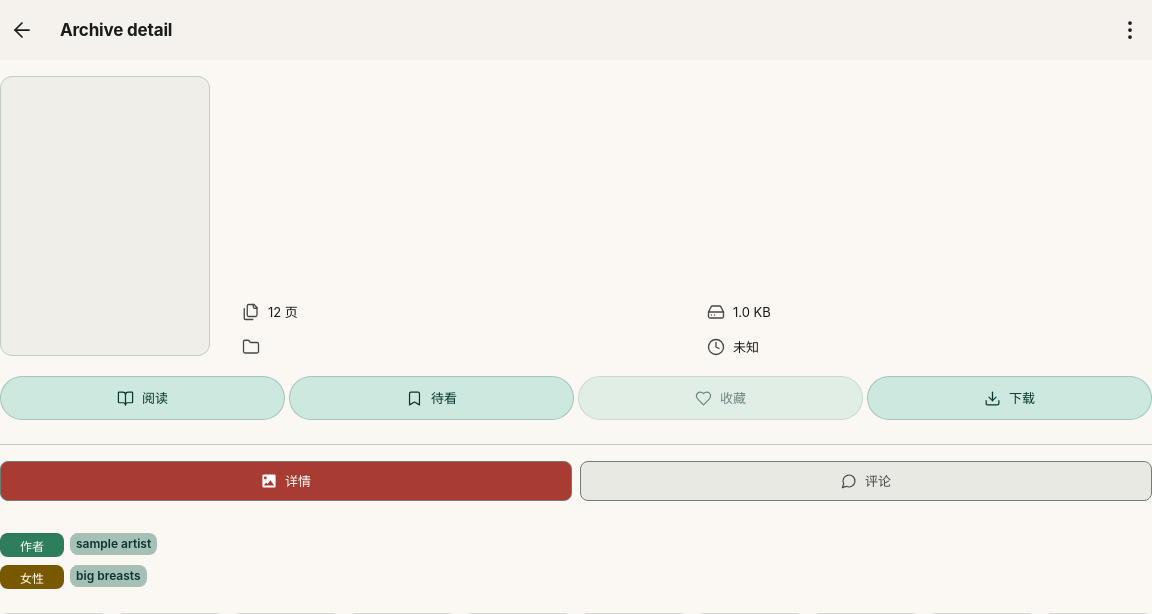
archive detail route › offers incognito by long-pressing 阅读 rather than a button of its own
Expected: the link "无痕阅读" is not shown
Press the mouse on the link "阅读" at [142, 398], box top-left (0, 376), bottom-right (285, 420)
Wait 600 ms
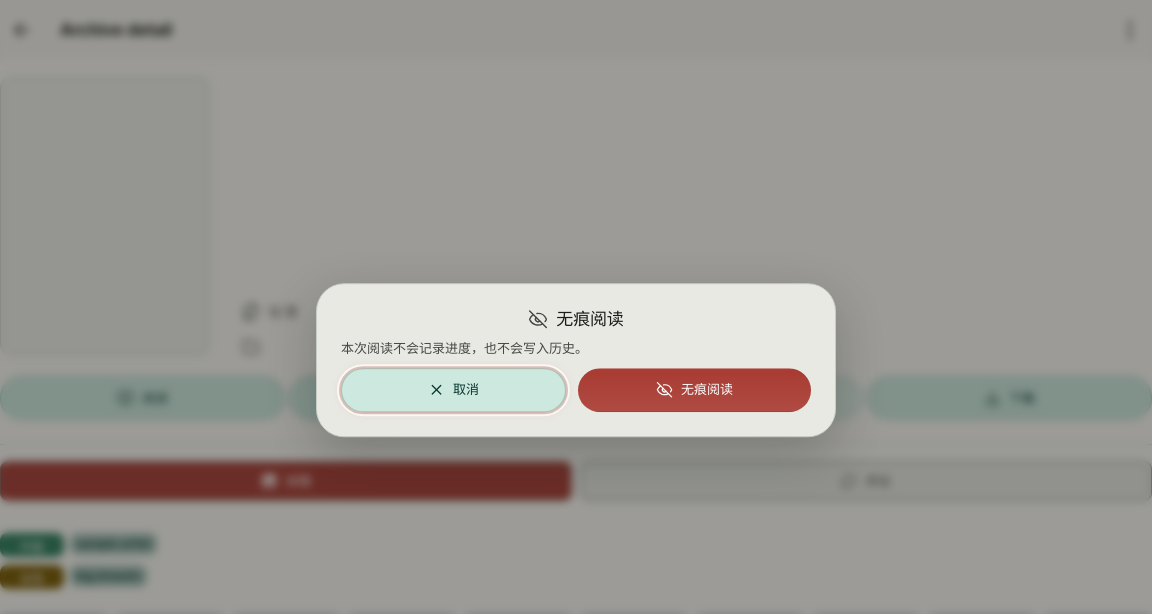
Result: the dialog "无痕阅读" is shown at top-left (316, 283), bottom-right (836, 437)
Result: the text "本次阅读不会记录进度，也不会写入历史。" is shown at top-left (341, 340), bottom-right (588, 356)
